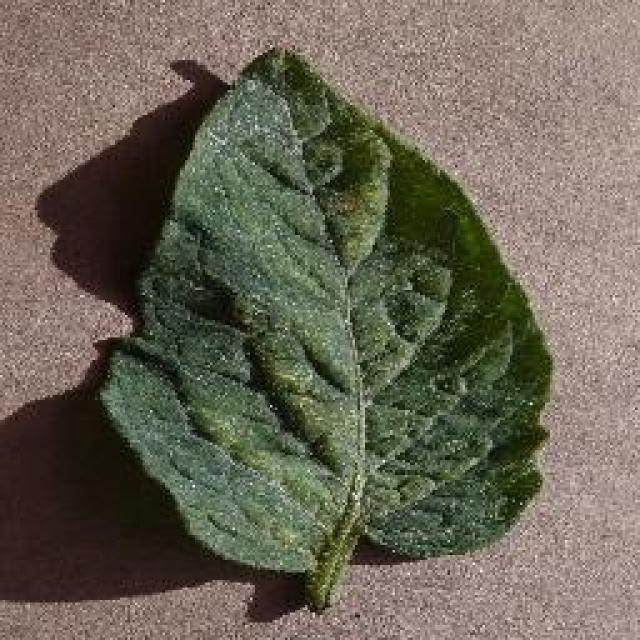Tomato mosaic virus leaf: (90, 46, 555, 579)
